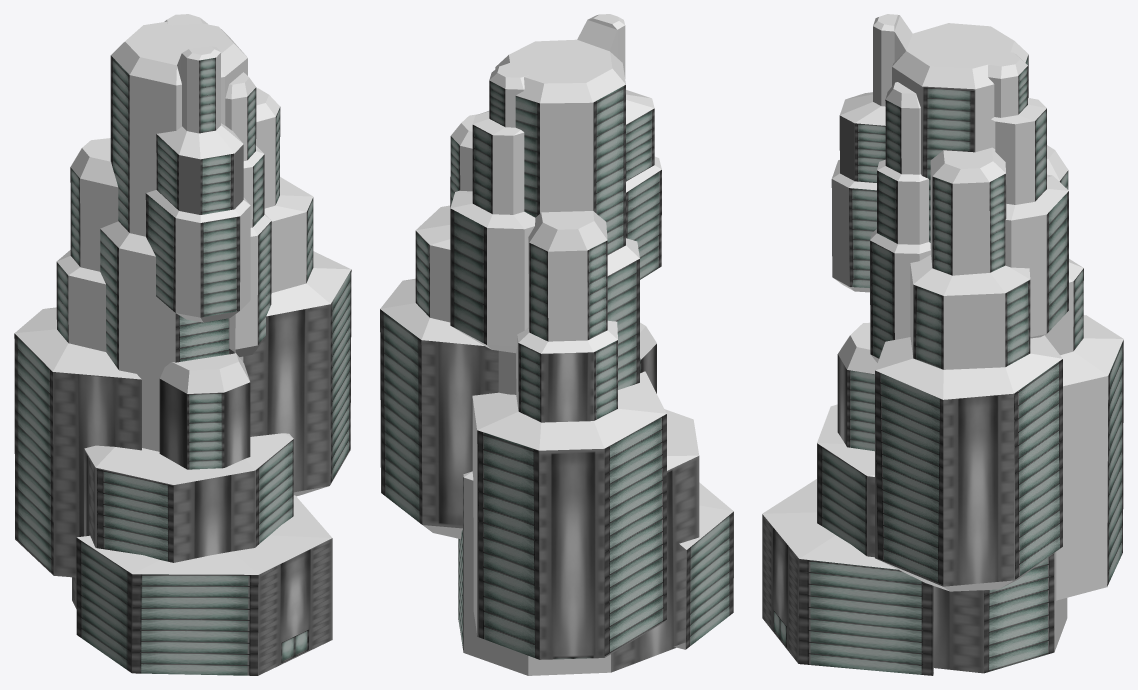
File: High_Rises.fbx
3 views of the same model, side by side, from view 1: azimuth 30°, elevation 25°; view 2: azimuth 150°, elevation 25°; view 3: azimuth 270°, elevation 25° (orthographic). The views are drawn at different scales.
Visible parts, largest first — view 1: Cube.001; view 2: Cube.001; view 3: Cube.001.
Part boxes in pixels (box(x1,y1,x2,y2)): Cube.001: box(14, 14, 351, 675); Cube.001: box(380, 14, 733, 675); Cube.001: box(762, 14, 1123, 675).
Size of the model in its own units: 573 by 1139 by 619.
